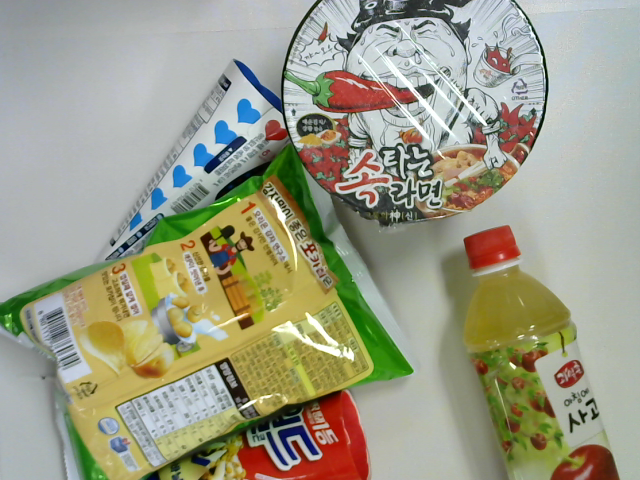Bravo_Cone_(Banila)_CVS: (87, 54, 300, 287)
HeJangsock: (273, 1, 561, 232)
Morning_Apple_500ml: (451, 217, 633, 480)
Pocachip_Onion: (1, 136, 423, 479)
World_Cone_Banila: (100, 384, 380, 480)
